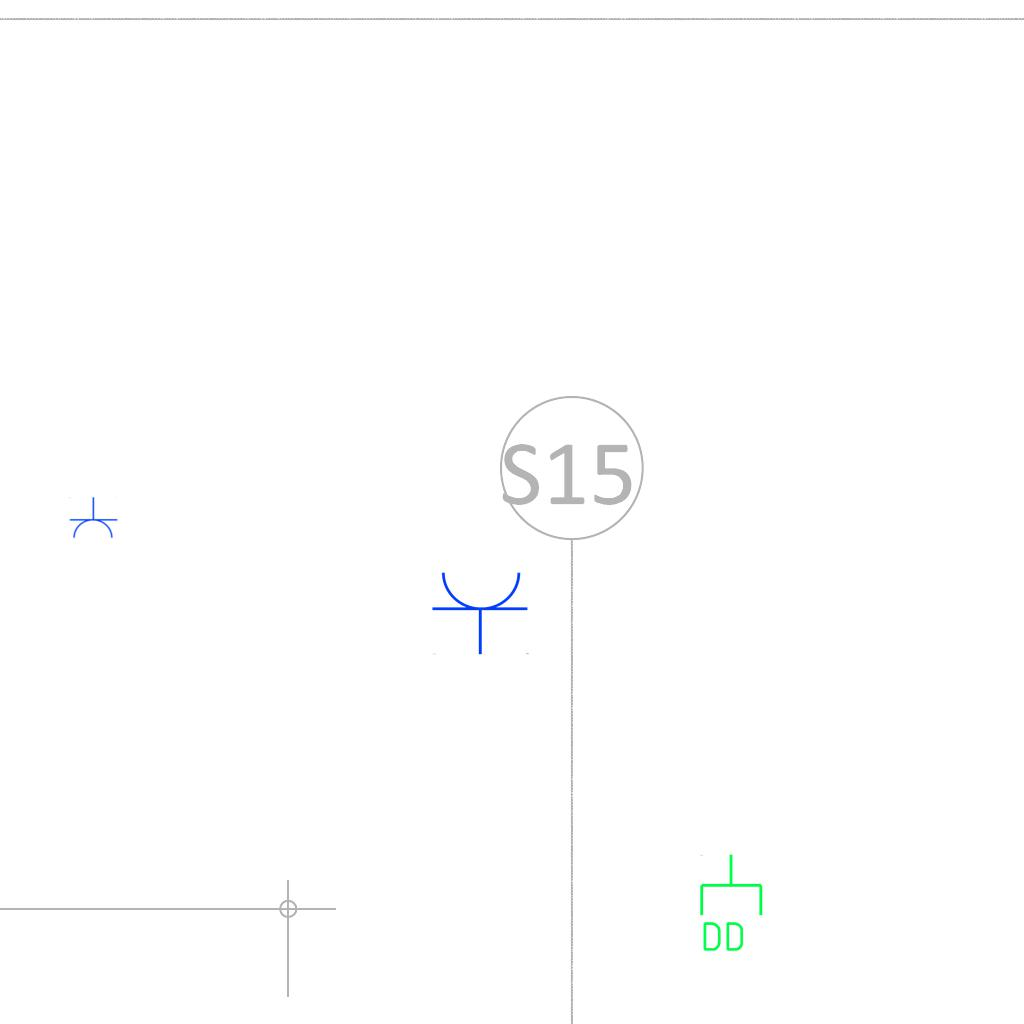Datenanschluss_zweifach: (696, 852, 765, 955)
Schukosteckdose_einfach: (431, 568, 531, 655), (68, 497, 118, 540)
